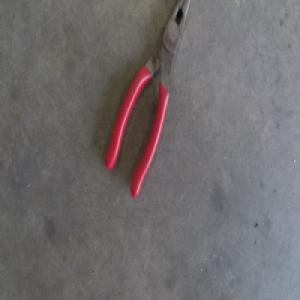Pliers: (102, 0, 189, 198)
